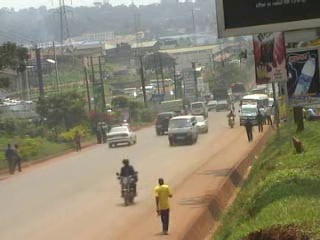Car: (106, 124, 139, 148), (154, 108, 177, 136), (189, 113, 209, 132), (216, 98, 230, 112), (206, 100, 215, 111)
Motorcycle: (112, 159, 138, 205), (224, 111, 236, 128)
